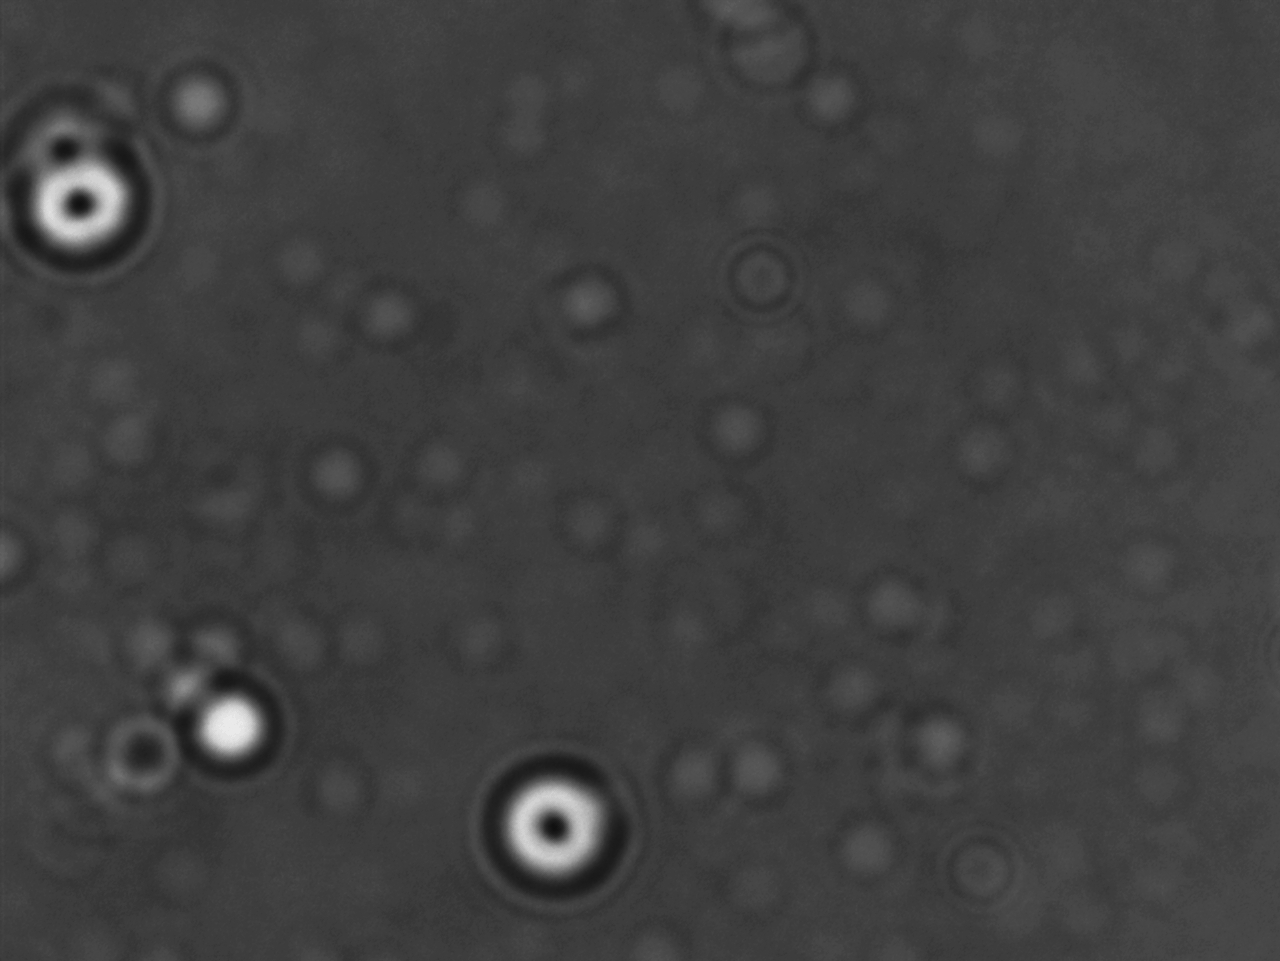depth:24: (459, 733, 659, 915), (10, 132, 152, 275)
